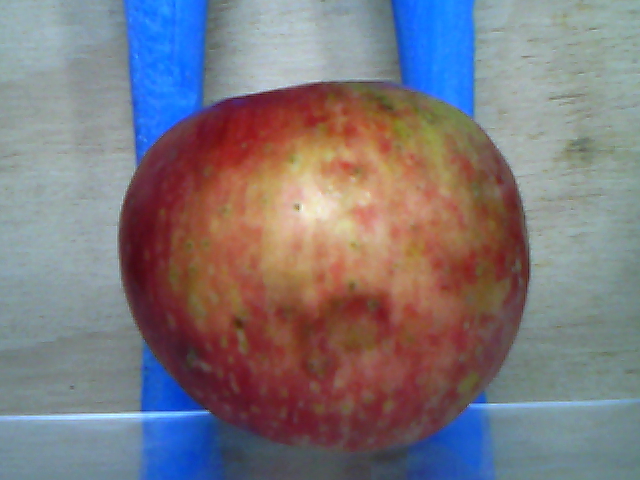bruise: (299, 290, 397, 374)
